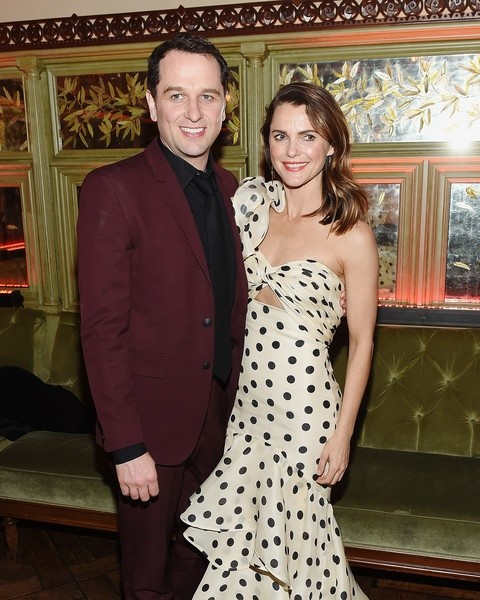face_no_mask: (145, 39, 225, 157), (260, 80, 345, 187)
